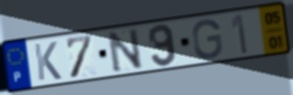1: (230, 12, 250, 56)
7: (65, 33, 95, 80)
9: (147, 23, 179, 69)
G: (191, 18, 225, 61)
K: (32, 40, 64, 83)
N: (105, 27, 145, 75)
